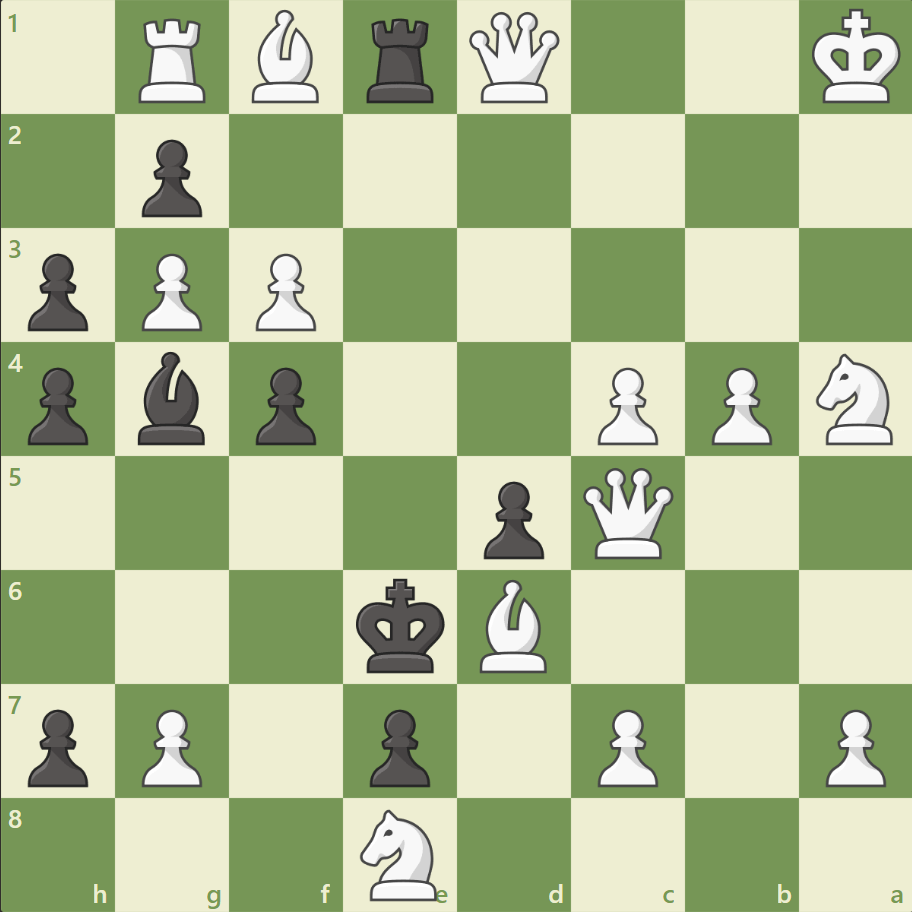B: (244, 6, 328, 109), (471, 574, 555, 676)
K: (806, 4, 906, 112)
N: (351, 802, 449, 904), (806, 348, 903, 450)
P: (133, 700, 208, 791), (701, 359, 776, 450), (247, 246, 322, 337), (133, 246, 208, 337), (815, 700, 889, 791), (588, 700, 662, 791), (588, 359, 662, 450)
Q: (578, 463, 677, 562), (464, 9, 563, 108)
R: (133, 12, 215, 109)
b: (131, 347, 215, 449)
k: (351, 571, 451, 679)
p: (20, 700, 95, 791), (474, 473, 549, 564), (247, 359, 322, 450), (20, 359, 95, 450), (20, 246, 95, 337), (133, 132, 208, 223), (361, 700, 435, 791)
r: (360, 12, 442, 109)
